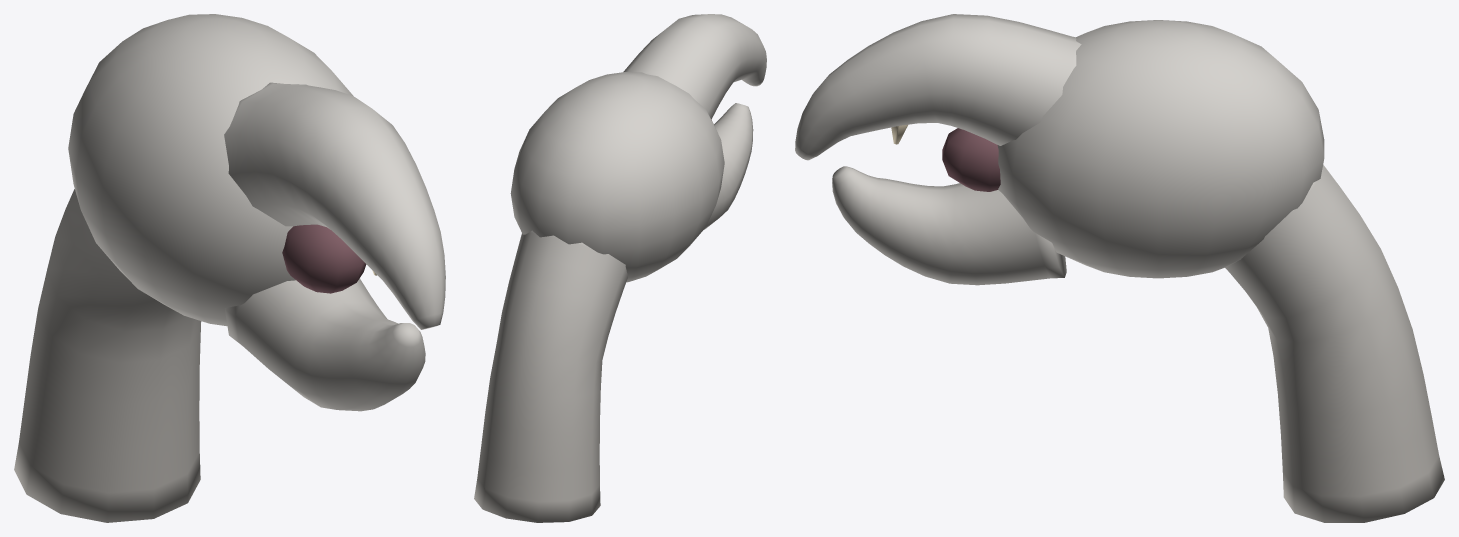
Rendered from part_claw_pincer.glb.
The picture shows the model from 3 angles, left to right: view 1: azimuth 30°, elevation 25°; view 2: azimuth 150°, elevation 25°; view 3: azimuth 270°, elevation 25°; orthographic projection. The views are drawn at different scales.
Visible parts, largest first — view 1: swing.001_painted_mesh; view 2: swing.001_painted_mesh; view 3: swing.001_painted_mesh.
Boxes of the visible parts, bbox=[...] form: swing.001_painted_mesh: bbox=[14, 14, 445, 522]; swing.001_painted_mesh: bbox=[474, 14, 766, 522]; swing.001_painted_mesh: bbox=[795, 14, 1444, 522].
Size of the model in its own units: 0.4 by 0.8457 by 1.04.
